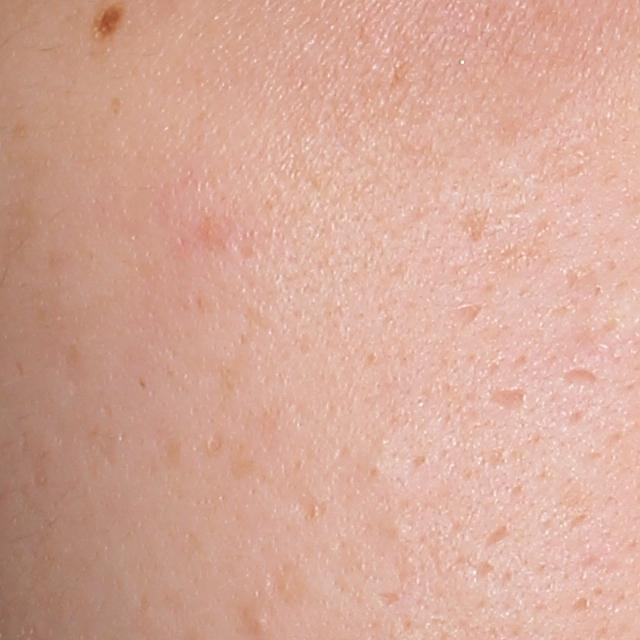atrophic_scar: (557, 364, 604, 392), (487, 385, 527, 415), (450, 300, 487, 332), (484, 522, 510, 550)
comedo: (238, 606, 272, 639)
nevus: (90, 0, 128, 39)
